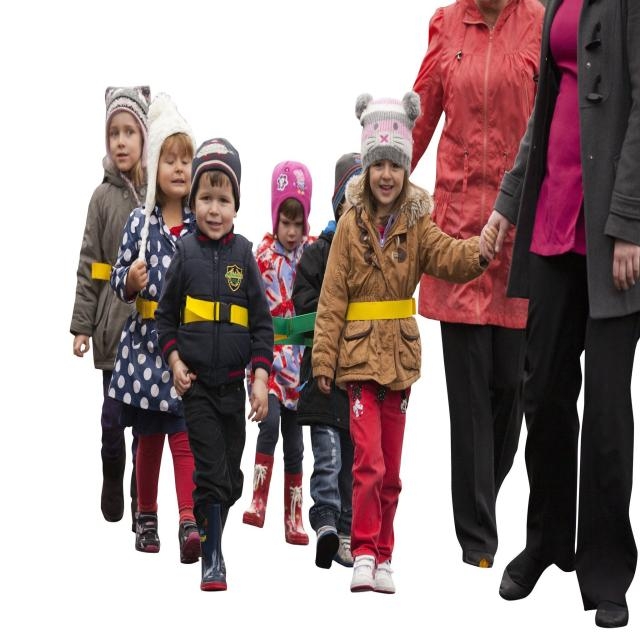body: (482, 0, 640, 630), (311, 89, 500, 598), (406, 1, 546, 570), (152, 135, 278, 591), (109, 98, 202, 564), (70, 84, 152, 534), (291, 150, 372, 567), (241, 160, 318, 548)
